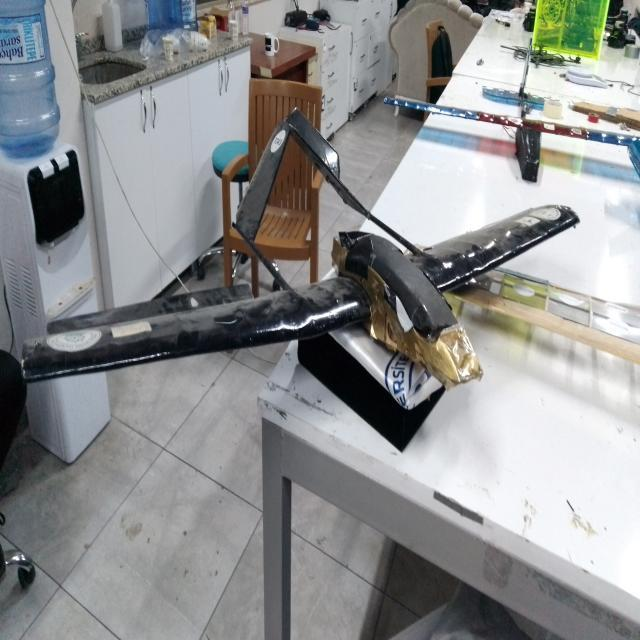UAV: (67, 116, 554, 510)
